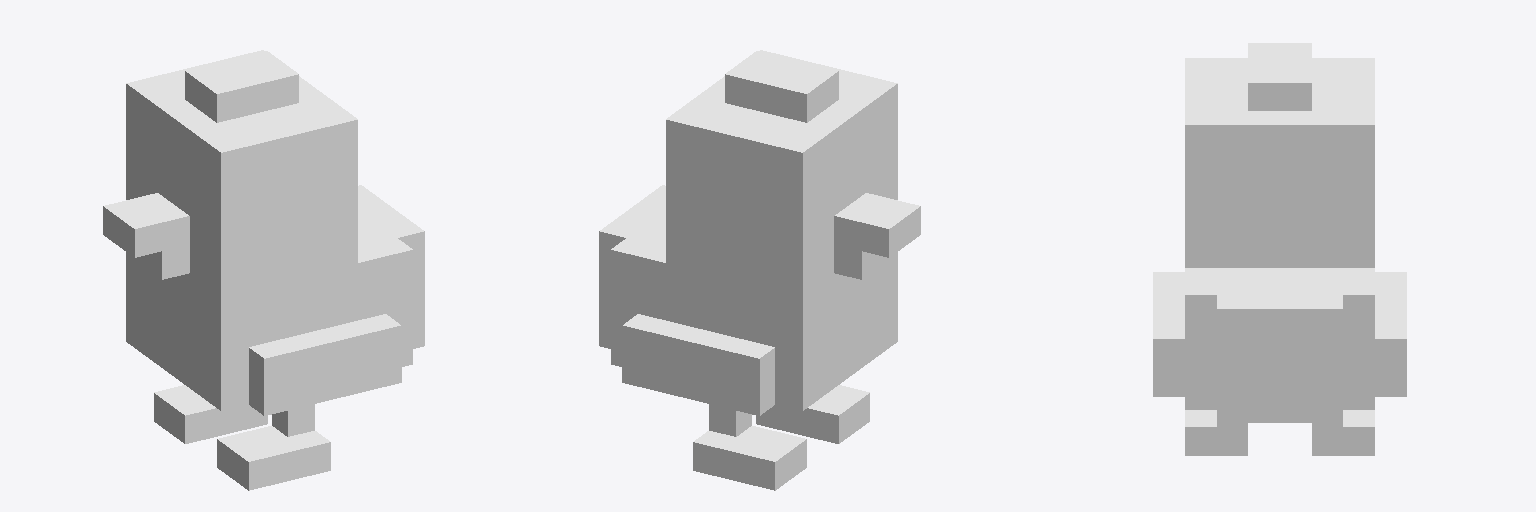
File: bigchick.obj
3 views of the same model, side by side, from view 1: azimuth 30°, elevation 25°; view 2: azimuth 150°, elevation 25°; view 3: azimuth 270°, elevation 25° (orthographic).
Visible parts, largest first — view 1: object 1; view 2: object 1; view 3: object 1.
Part boxes in pixels (bbox=[...]): object 1: bbox=[103, 50, 424, 490]; object 1: bbox=[599, 50, 920, 490]; object 1: bbox=[1153, 43, 1406, 455].
Bounding box in the file's own units: 3 × 3.9 × 2.4.